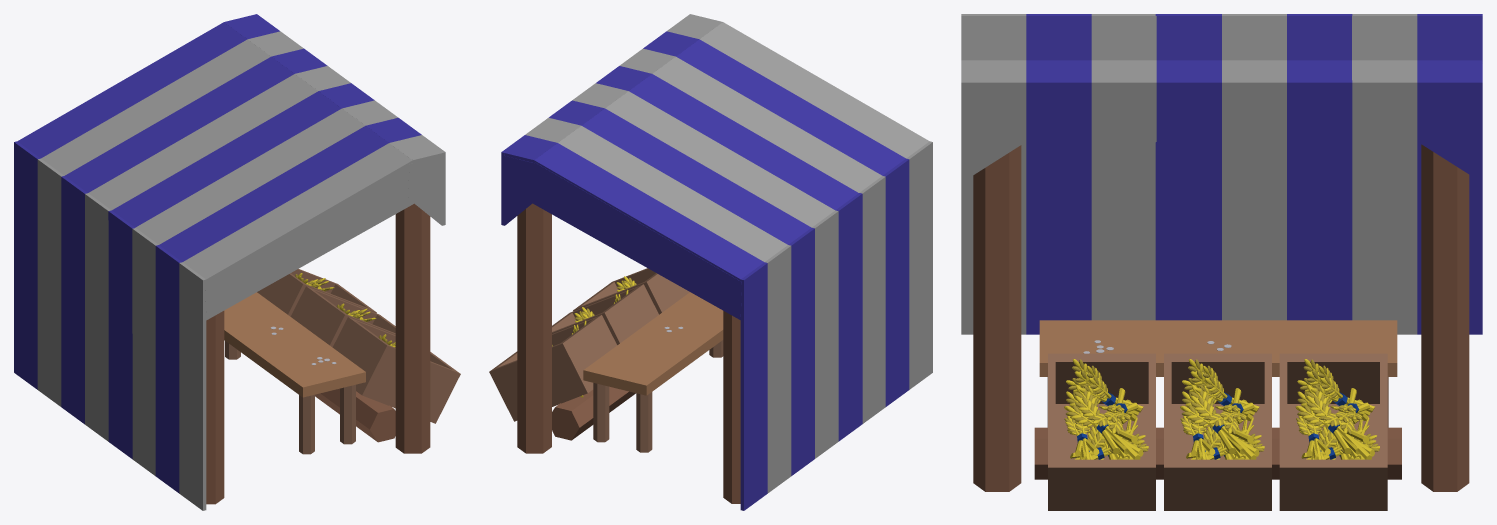
The model's file is MarketStandBlue.fbx.
The picture shows the model from 3 angles, left to right: view 1: azimuth 30°, elevation 25°; view 2: azimuth 150°, elevation 25°; view 3: azimuth 270°, elevation 25°; orthographic projection. The views are drawn at different scales.
Visible parts, largest first — view 1: Cube.060, Cylinder.128, Cube.059, Cube.056, Cylinder.129, Cube.057, Cube.058, Cylinder.122, Cylinder.126, Cylinder.123; view 2: Cube.060, Cylinder.127, Cube.059, Cube.058, Cylinder.130, Cube.057, Cylinder.122, Cube.056, Cylinder.125, Cylinder.124; view 3: Cube.060, Cylinder.127, Cylinder.128, Cube.059, Cube.058, Cube.056, Cube.057, Cylinder.122.
Boxes of the visible parts, x1,y1,x2,y2 form: Cube.060: (14,14,445,510); Cylinder.128: (395,203,430,453); Cube.059: (224,292,365,397); Cube.056: (332,317,460,423); Cylinder.129: (206,311,224,504); Cube.057: (290,286,395,347); Cube.058: (257,269,376,316); Cylinder.122: (315,388,395,442); Cylinder.126: (299,394,314,454); Cylinder.123: (340,384,355,444); Cube.060: (501,14,932,510); Cylinder.127: (517,203,551,453); Cube.059: (583,292,723,395); Cube.058: (489,315,617,421); Cylinder.130: (723,311,740,503); Cube.057: (552,284,658,344); Cylinder.122: (552,386,635,440); Cube.056: (573,268,689,314); Cylinder.125: (636,392,652,452); Cylinder.124: (593,383,609,442); Cube.060: (961,14,1482,334); Cylinder.127: (1421,144,1469,491); Cylinder.128: (973,145,1021,491); Cube.059: (1039,320,1397,376); Cube.058: (1279,353,1387,510); Cube.056: (1048,353,1155,510); Cube.057: (1164,353,1271,510); Cylinder.122: (1034,427,1401,479).
Size of the model in its own units: 388 by 385 by 439.
